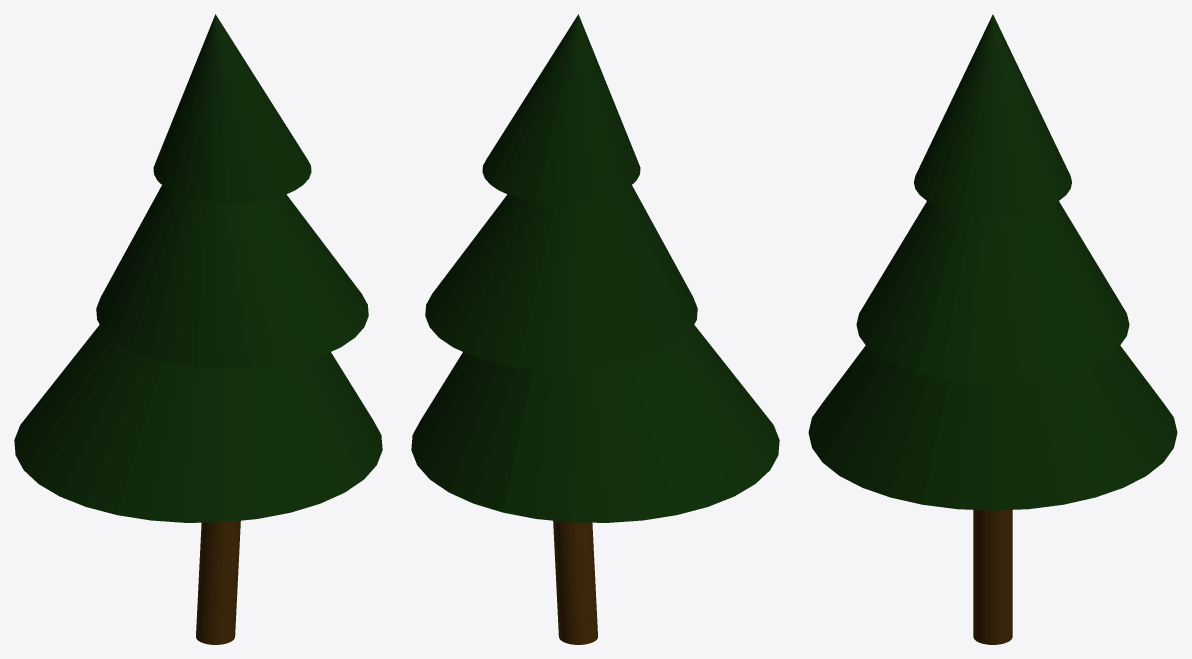
Rendered from Green_tree.fbx.
3 renders of one model, left to right at view 1: azimuth 30°, elevation 25°; view 2: azimuth 150°, elevation 25°; view 3: azimuth 270°, elevation 25°, orthographic.
Parts seen in each view (by area): view 1: green; view 2: green; view 3: green.
Boxes of the visible parts, box(x1,y1,x2,y2) form: green: box(14, 14, 382, 644); green: box(411, 14, 779, 644); green: box(808, 14, 1177, 644).
Bounding box in the file's own units: 188 × 350 × 188.
